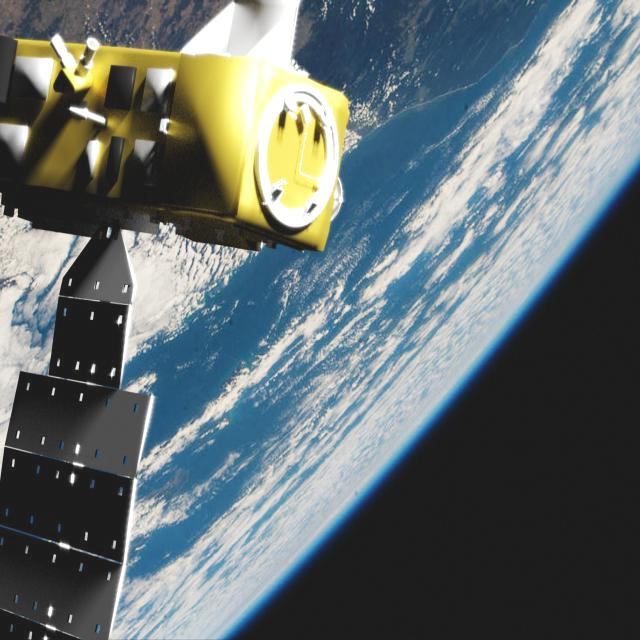satellite: (0, 4, 379, 634)
